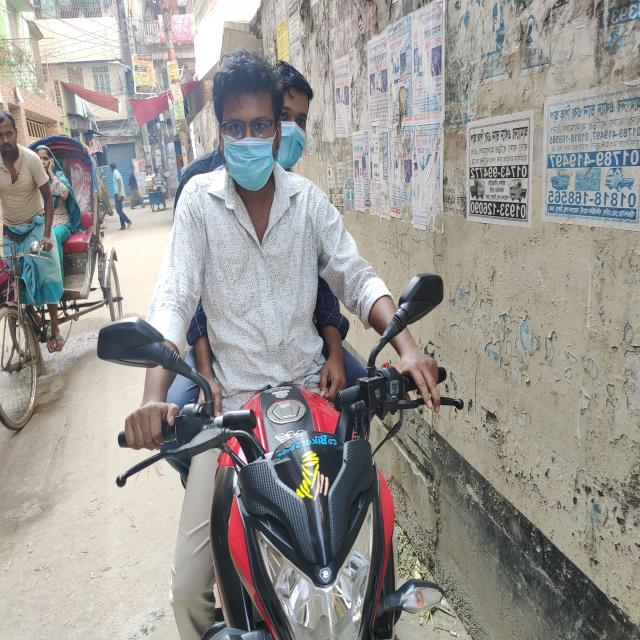Overloading: (107, 20, 435, 600)
